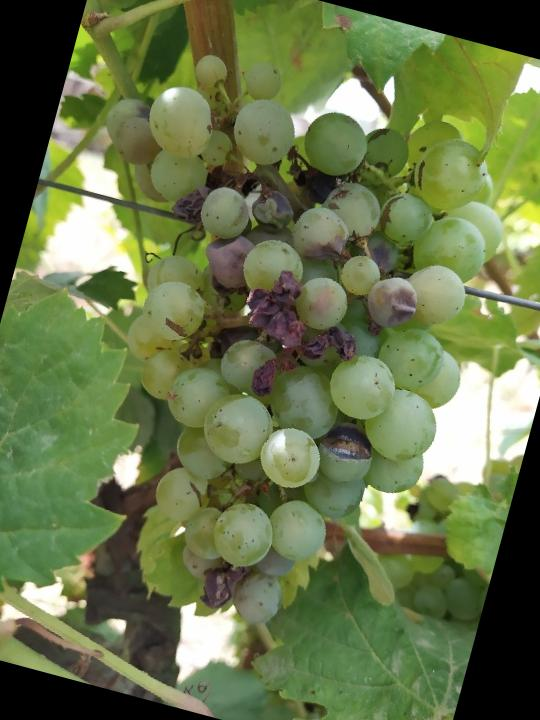grape: (0, 22, 536, 666)
